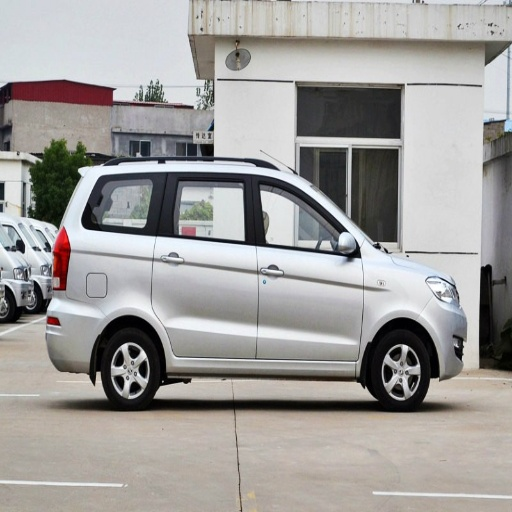back_right_door: (139, 173, 254, 359)
front_right_door: (255, 173, 364, 364)
trunk: (56, 268, 113, 365)
